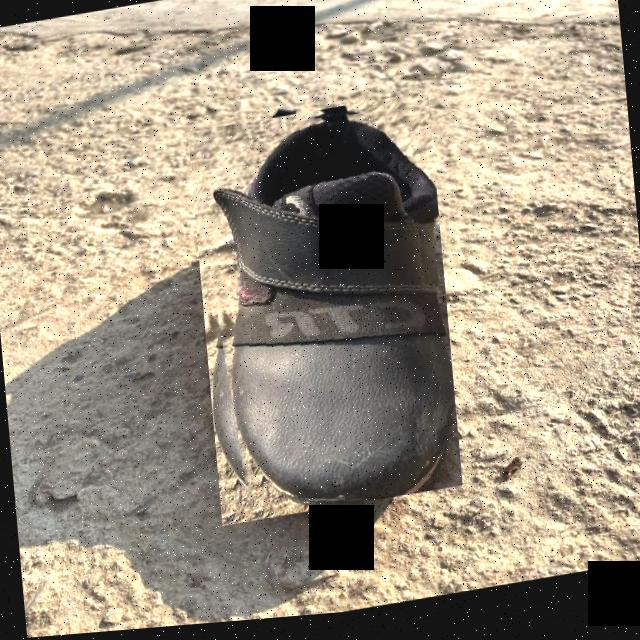shoe: (188, 97, 462, 531)
